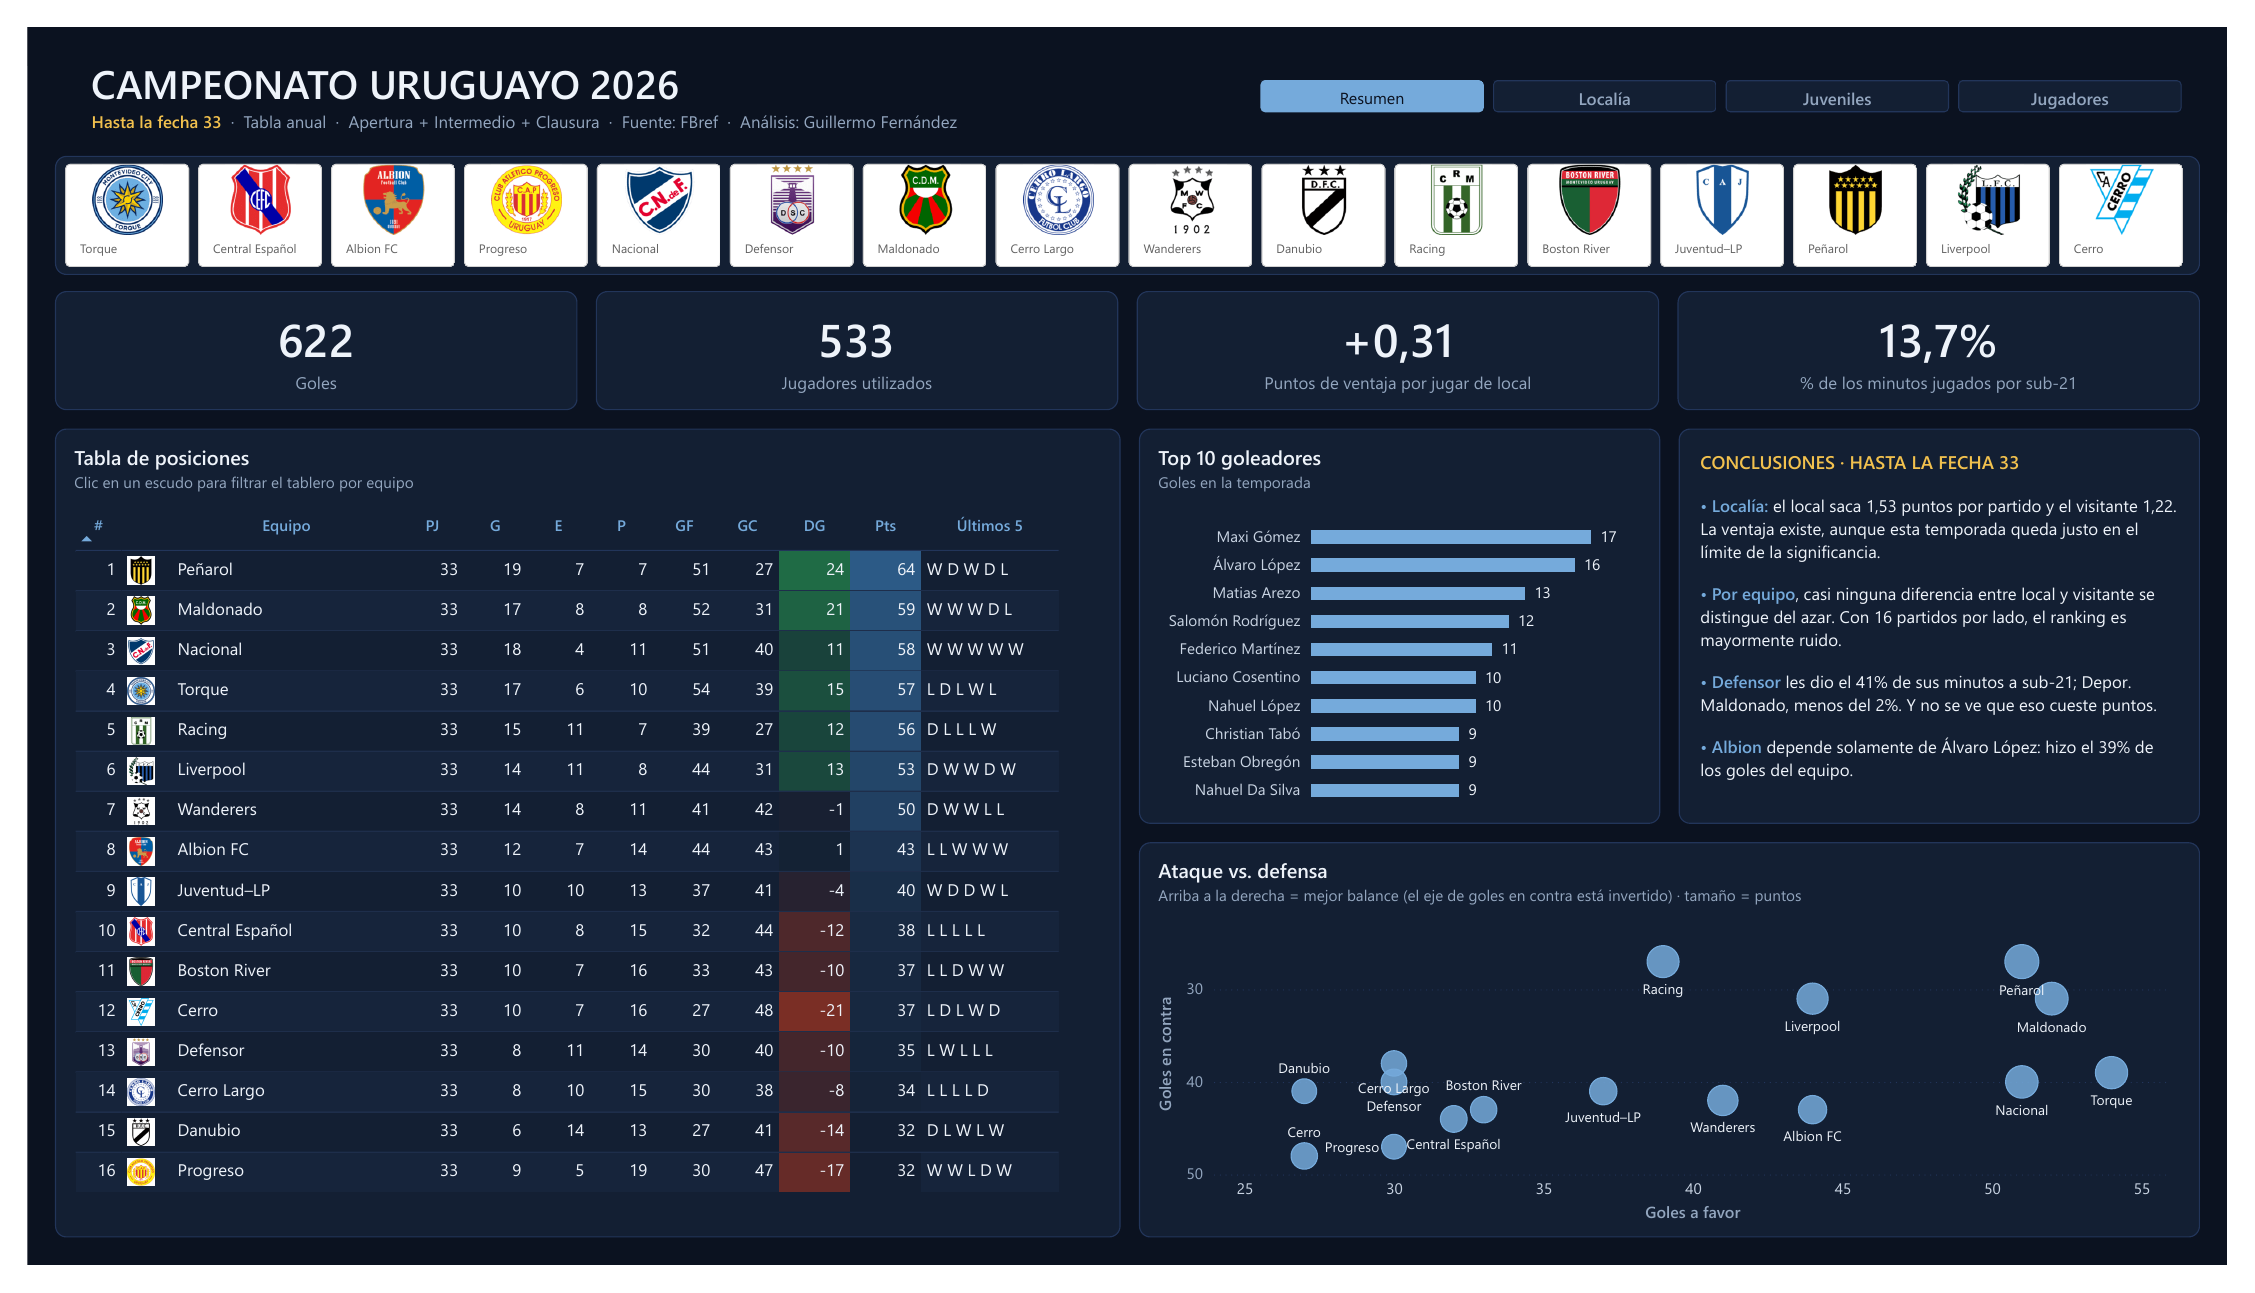

This screenshot's page, from the dashboard's own definition file:
{"tool":"powerbi","page":{"name":"Resumen","canvas":[1920,1080],"ordinal":0},"visuals":[{"type":"shape","box":[24,26,6,60],"z":100},{"type":"textbox","box":[40,14,1100,90],"z":200},{"type":"pageNavigator","box":[1060,34,836,52],"z":300},{"type":"advancedSlicerVisual","fields":{"Label":["Min(Equipos.Equipo)"],"Values":["Equipos.Escudo_URL"]},"box":[24,112,1872,104],"z":400},{"type":"card","fields":{"Values":["Sum(Clasificacion.GF)"]},"box":[24,230,456,104],"z":500},{"type":"card","fields":{"Values":["Count(Estadisticas.Jugador)"]},"box":[496,230,456,104],"z":700},{"type":"card","fields":{"Values":["Partidos.Dependencia Local"]},"box":[968,230,456,104],"z":800},{"type":"card","fields":{"Values":["Estadisticas.% Minutos Sub21"]},"box":[1440,230,456,104],"z":900},{"type":"tableEx","title":"Tabla de posiciones","fields":{"Values":["Sum(Clasificacion.Pos)","Equipos.Escudo_URL","Equipos.Equipo","Sum(Clasificacion.PJ)","Sum(Clasificacion.G)","Sum(Clasificacion.E)","Sum(Clasificacion.P)","Sum(Clasificacion.GF)","Sum(Clasificacion.GC)","Sum(Clasificacion.DG)","Sum(Clasificacion.Pts)","Clasificacion.Ultimos_5"]},"box":[24,350,930,706],"z":1000},{"type":"clusteredBarChart","title":"Top 10 goleadores","fields":{"Category":["Estadisticas.Jugador"],"Y":["Sum(Estadisticas.Goles)"]},"box":[970,350,455,345],"z":1100},{"type":"textbox","box":[1441,350,455,345],"z":1200},{"type":"scatterChart","title":"Ataque vs. defensa","fields":{"Category":["Clasificacion.Equipo"],"Size":["Sum(Clasificacion.Pts)"],"X":["Sum(Clasificacion.GF)"],"Y":["Sum(Clasificacion.GC)"]},"box":[970,711,926,345],"z":1300}]}

Visuals, with their boxes in screenshot pixels (x1, y1, x2, y2), scaled from the page's 1920x1080 canvas onto the 2255x1293 screenshot:
shape: 28 31 35 103
textbox: 47 17 1339 125
pageNavigator: 1245 41 2227 103
advancedSlicerVisual - Min(Equipos.Equipo) x Equipos.Escudo_URL: 28 134 2227 259
card - Sum(Clasificacion.GF): 28 275 564 400
card - Count(Estadisticas.Jugador): 583 275 1118 400
card - Partidos.Dependencia Local: 1137 275 1672 400
card - Estadisticas.% Minutos Sub21: 1691 275 2227 400
"Tabla de posiciones" tableEx: 28 419 1120 1264
"Top 10 goleadores" clusteredBarChart: 1139 419 1674 832
textbox: 1692 419 2227 832
"Ataque vs. defensa" scatterChart: 1139 851 2227 1264
